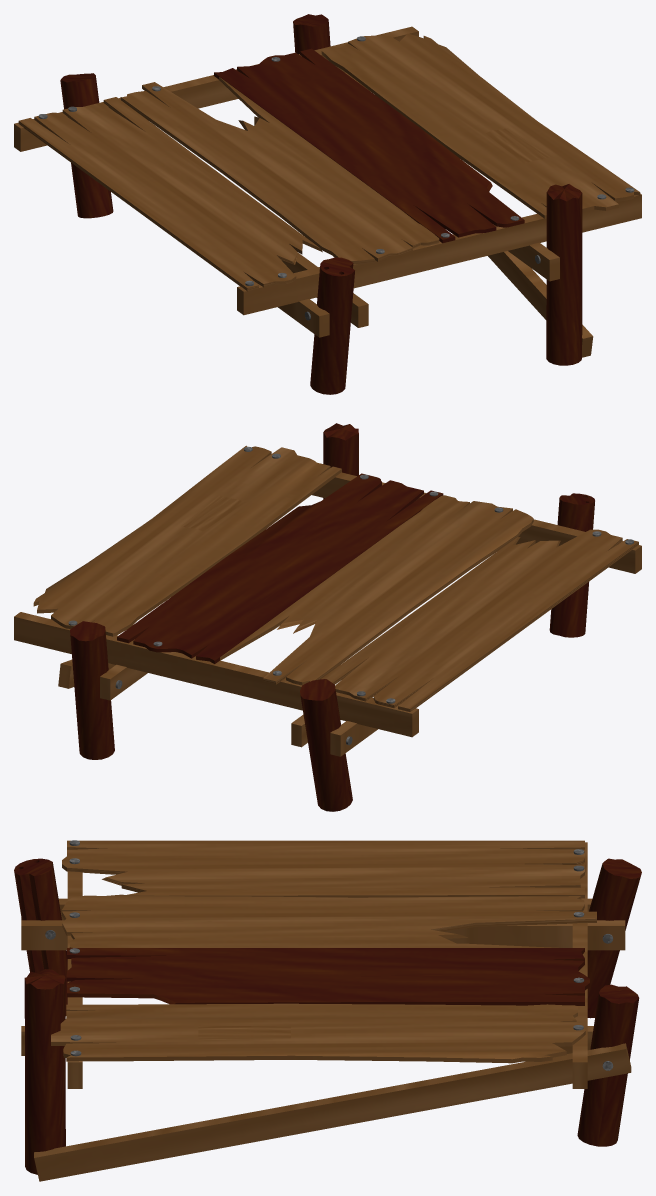
The model's file is Wooden dock 2.fbx.
3 renders of one model, top to bottom at view 1: azimuth 30°, elevation 25°; view 2: azimuth 150°, elevation 25°; view 3: azimuth 270°, elevation 25°, orthographic. The views are drawn at different scales.
Visible parts, largest first — view 1: Dock_2; view 2: Dock_2; view 3: Dock_2.
Boxes of the visible parts, box(x1,y1,x2,y2) form: Dock_2: box(14, 14, 641, 394); Dock_2: box(14, 423, 641, 811); Dock_2: box(14, 840, 641, 1181).
Bounding box in the file's own units: 529 × 216 × 637.
1 material, 1 textured.
